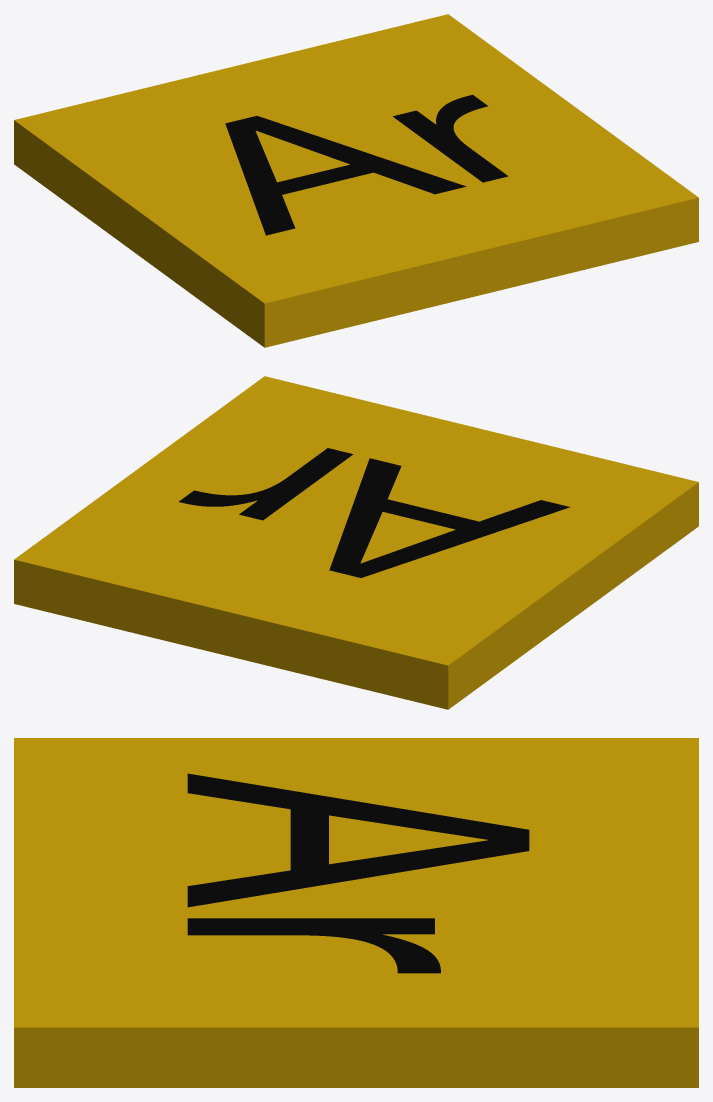
Rendered from argon.obj.
The picture shows the model from 3 angles, top to bottom: view 1: azimuth 30°, elevation 25°; view 2: azimuth 150°, elevation 25°; view 3: azimuth 270°, elevation 25°; orthographic projection. The views are drawn at different scales.
Visible parts, largest first — view 1: Cube, Text_Text.001; view 2: Cube, Text_Text.001; view 3: Cube, Text_Text.001.
Boxes of the visible parts, <box> form: Cube: <box>14,14,698,347</box>; Text_Text.001: <box>225,94,508,235</box>; Cube: <box>14,376,698,709</box>; Text_Text.001: <box>179,448,570,577</box>; Cube: <box>14,738,698,1087</box>; Text_Text.001: <box>187,773,529,973</box>.
Bounding box in the file's own units: 5.21 × 0.5715 × 5.21.
